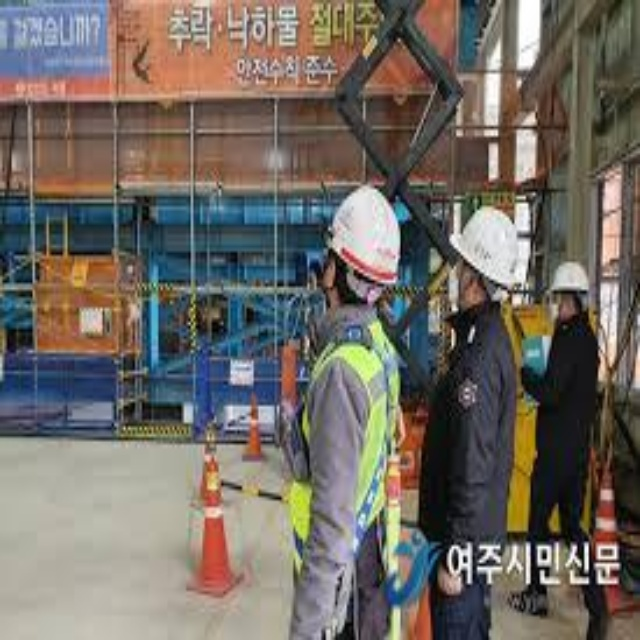Arnes_seguridad: (295, 321, 421, 640)
